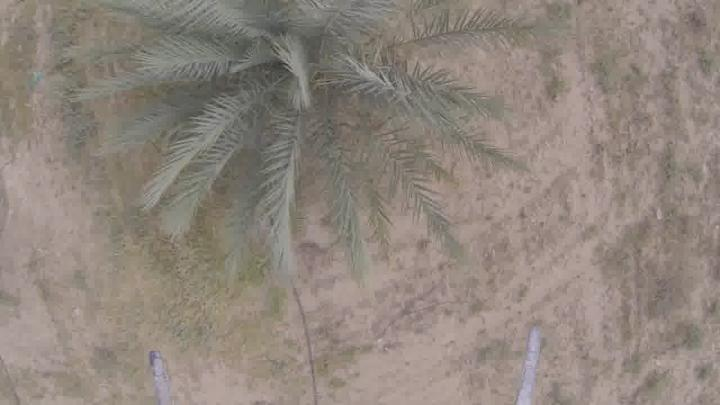Date-Palm-Crown: (194, 1, 408, 186)
